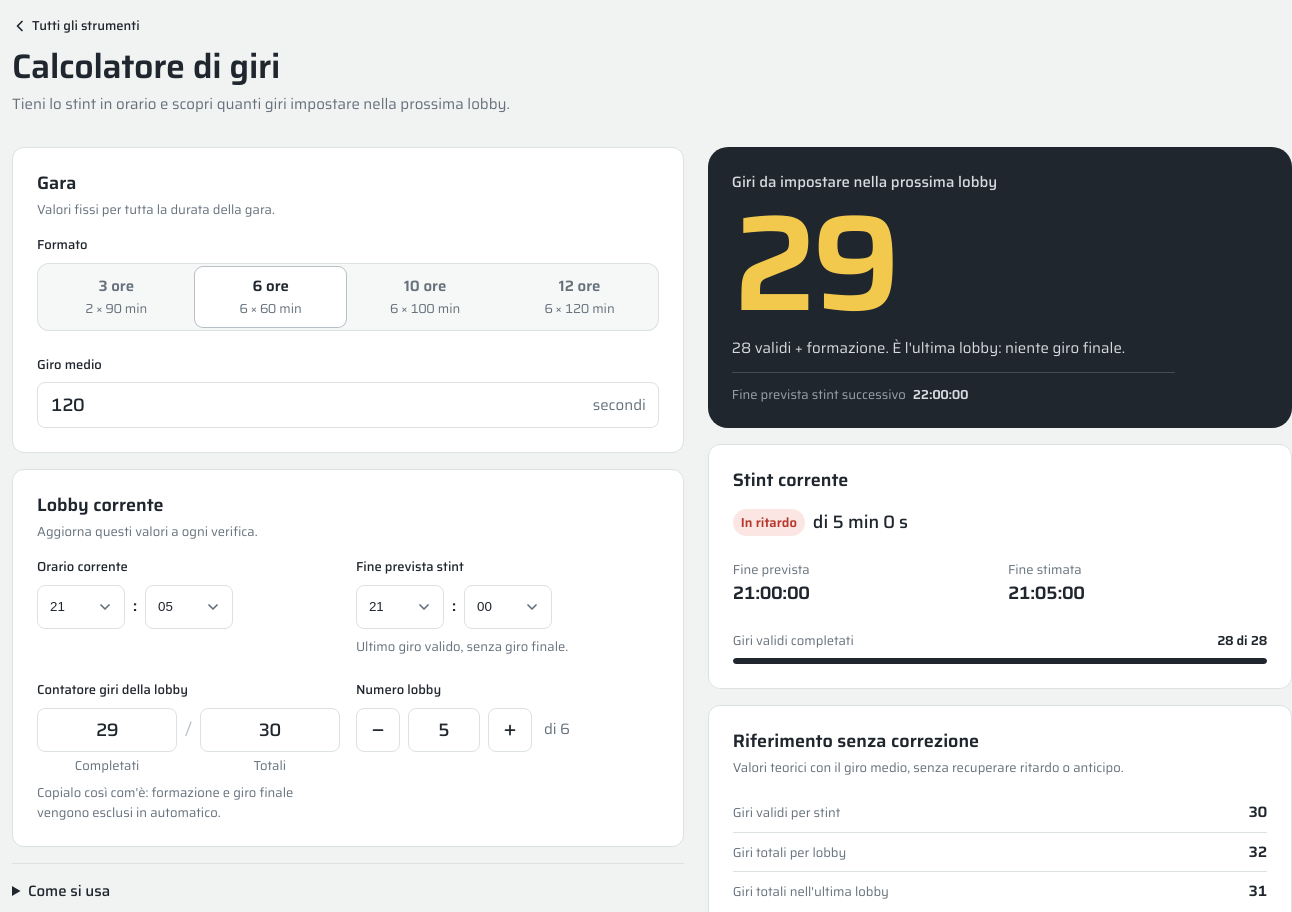
Test: <LapCalculator /> › riconosce l'ultima lobby quando cambia il formato gara
Click the radio button labelled "3 ore 2 × 90 min".
click(116, 297)  # box x1=85 y1=274 x2=147 y2=319
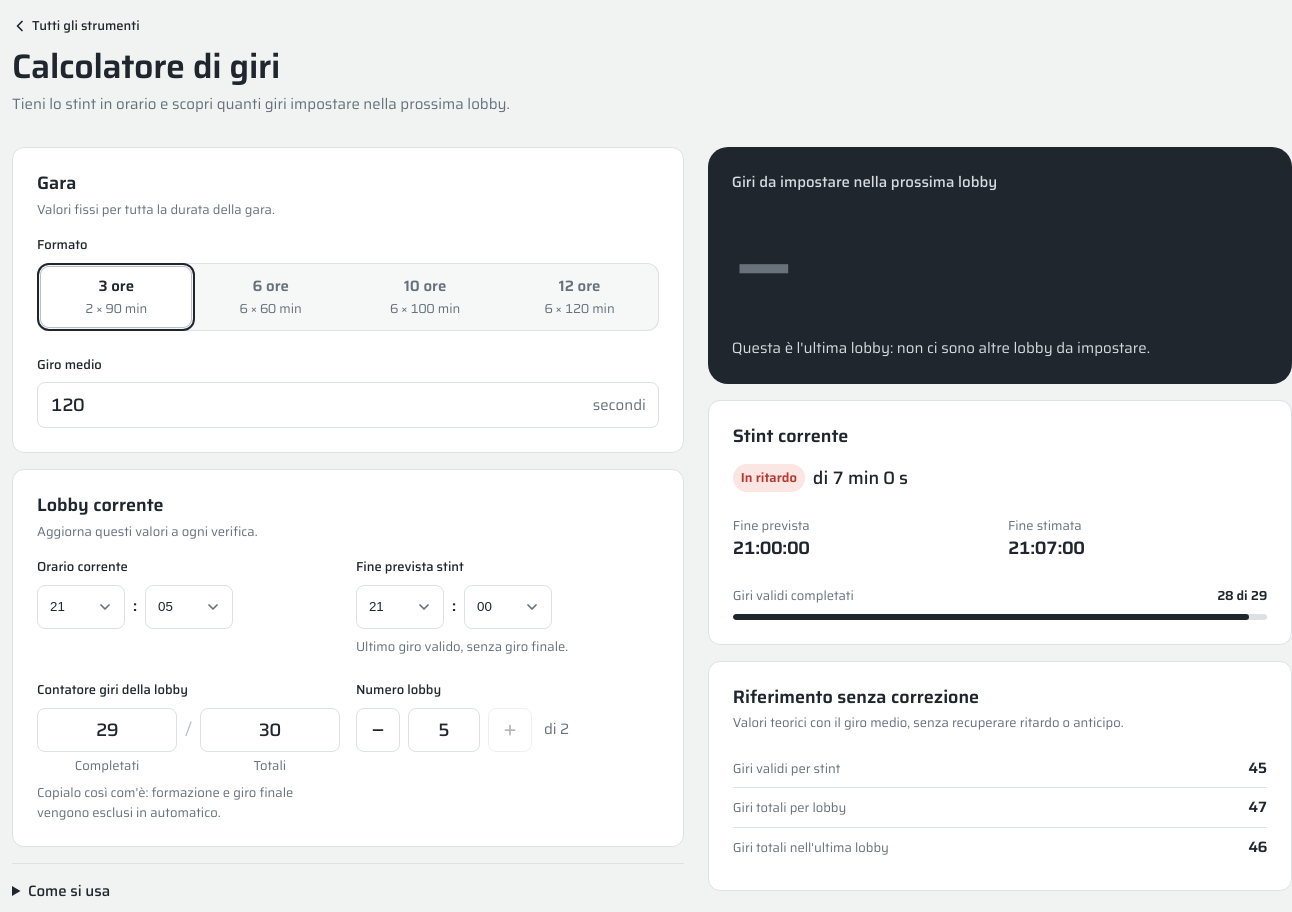
expect the text "di 2" is shown: met, box x1=544 y1=718 x2=569 y2=741
expect the text "Questa è l'ultima lobby" is shown: met, box x1=732 y1=336 x2=1150 y2=360
